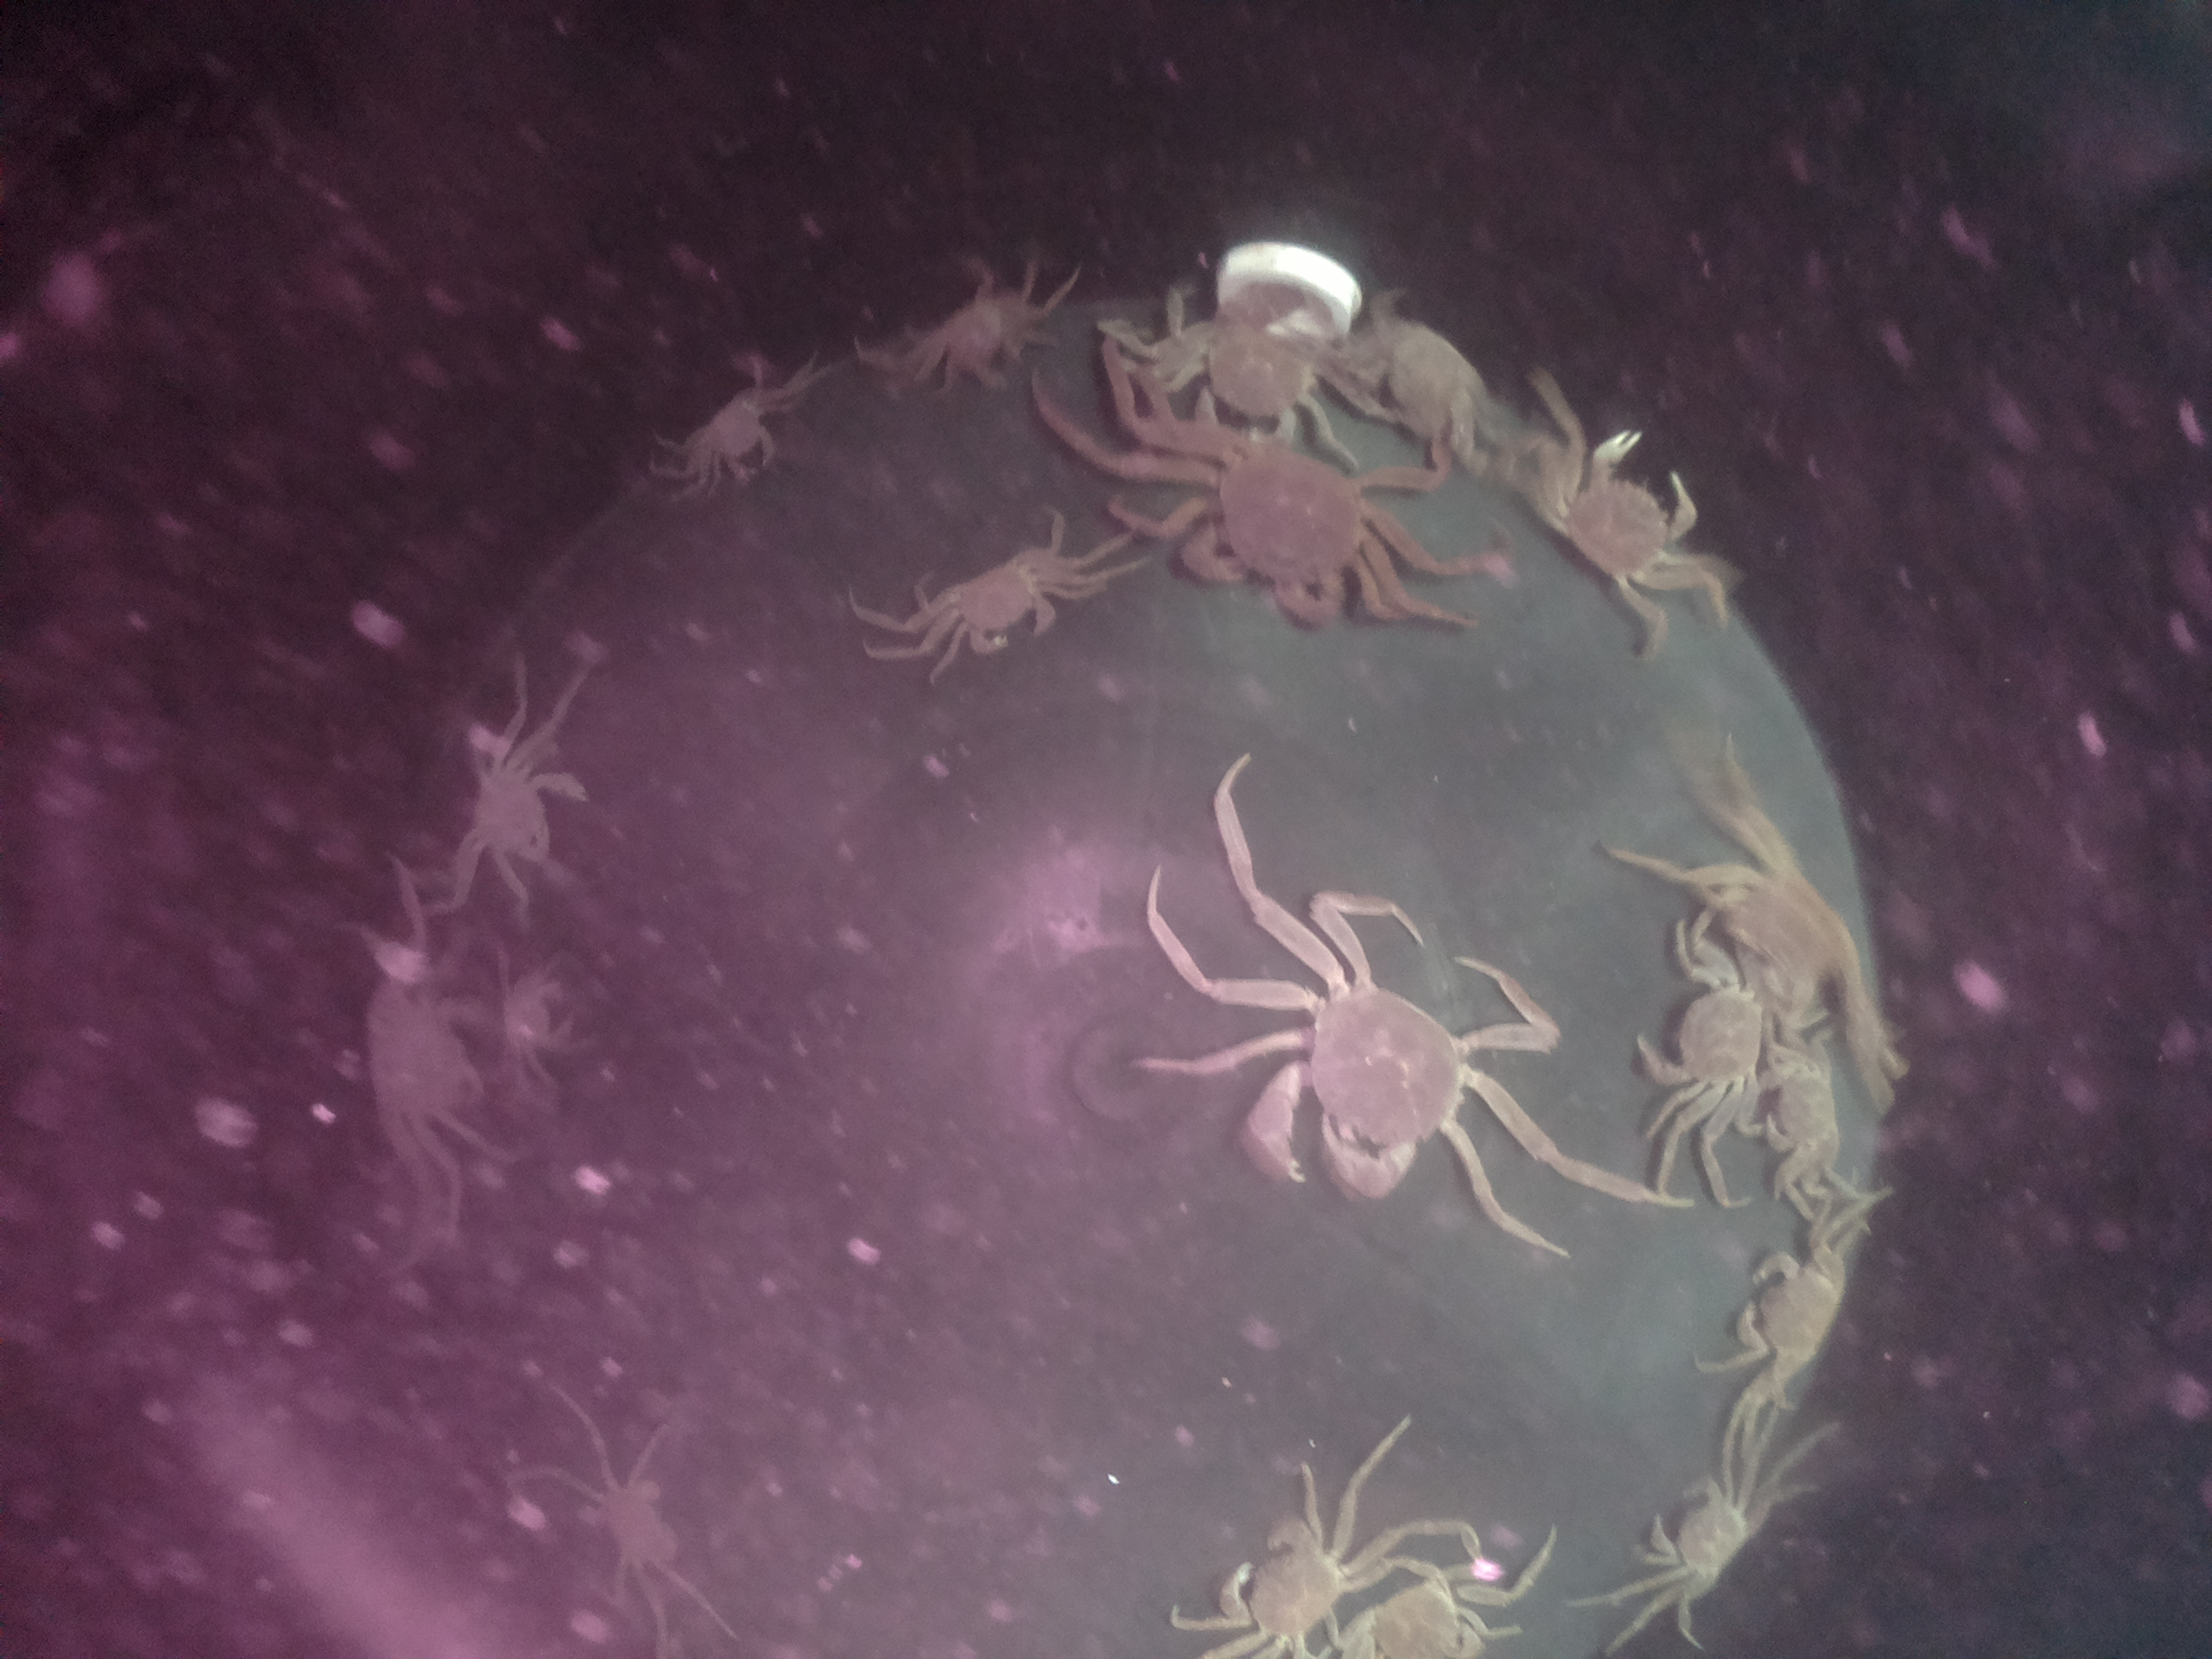Crab: (1216, 965, 1493, 1215), (1155, 430, 1388, 631), (1536, 418, 1721, 592), (1623, 938, 1778, 1122), (1623, 1452, 1792, 1619), (1195, 1507, 1376, 1659), (923, 525, 1071, 678), (1716, 1230, 1850, 1387), (665, 361, 801, 514)
